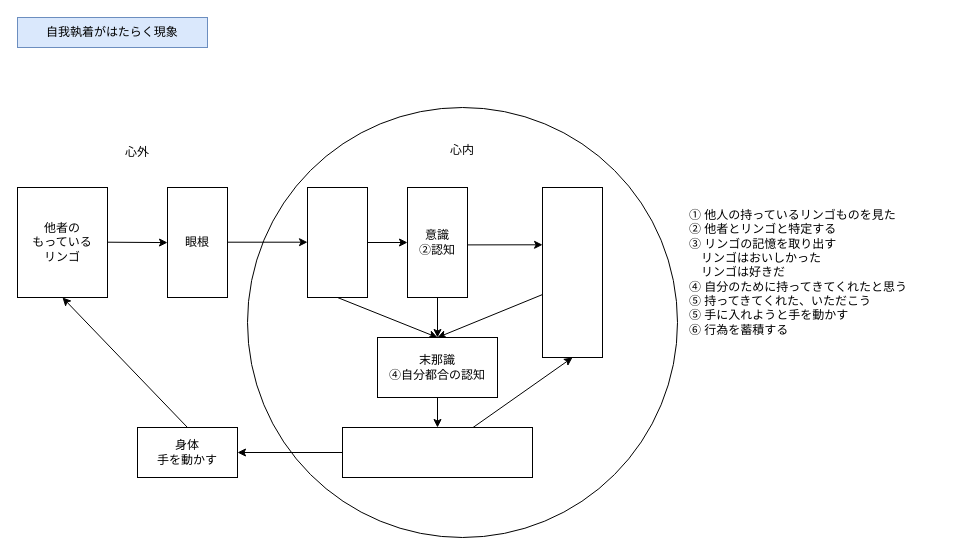
This 955x555 diagram has some shape labels left out. The shapes that lost their labels are listed below. From the top down, each one's centre as x and y in pixels, then its label:
At point (337, 242): "眼識 ①検知".
At point (572, 272): "阿頼耶識 ③おいしい、 好き ⑦蓄積".
At point (437, 452): "心所（細かい振る舞い） ⑤ 自分のものと思う ⑥行為の契機".
